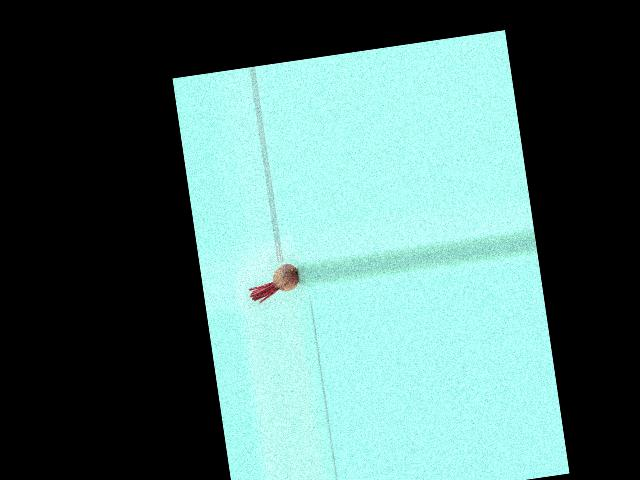beet: (246, 262, 301, 303)
